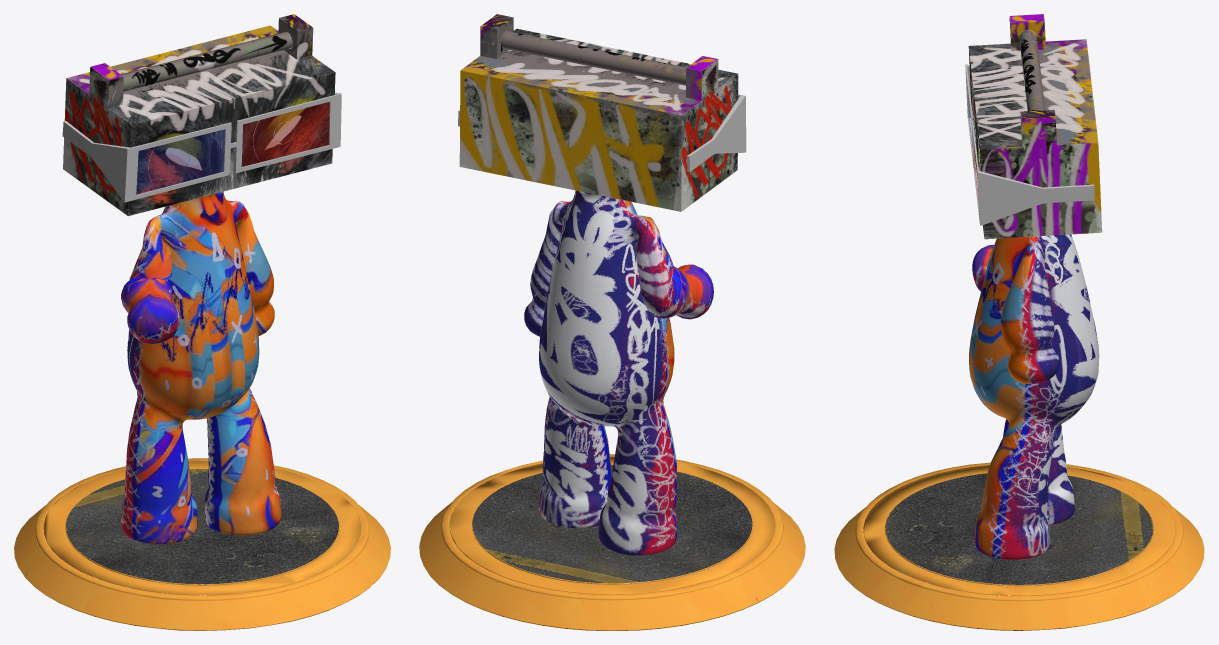
The picture shows the model from 3 angles, left to right: view 1: azimuth 30°, elevation 25°; view 2: azimuth 150°, elevation 25°; view 3: azimuth 270°, elevation 25°; orthographic projection. The views are drawn at different scales.
Visible parts, largest first — view 1: BBody; view 2: BBody; view 3: BBody.
Part boxes in pixels (bbox=[...]): BBody: bbox=[14, 14, 390, 630]; BBody: bbox=[419, 14, 805, 630]; BBody: bbox=[834, 14, 1204, 630].
Size of the model in its own units: 1.45 by 2.12 by 1.45.
7 materials, 4 textured.
